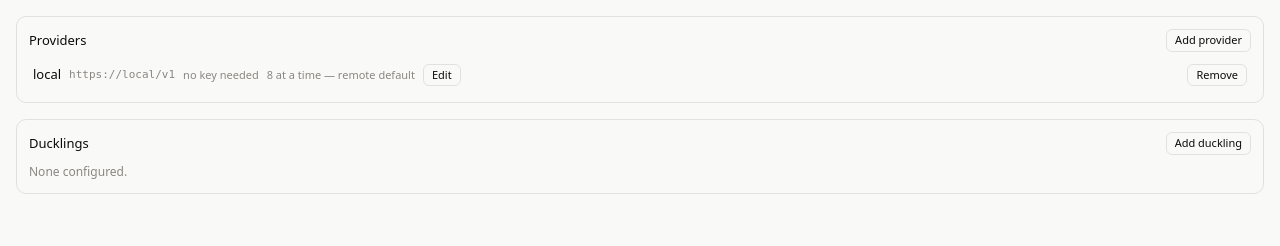
Ducklings › shows the engine's refusal rather than failing silently
Click the button with test id "provider-remove-local".
click(1217, 75)  # box [1187, 64, 1247, 86]
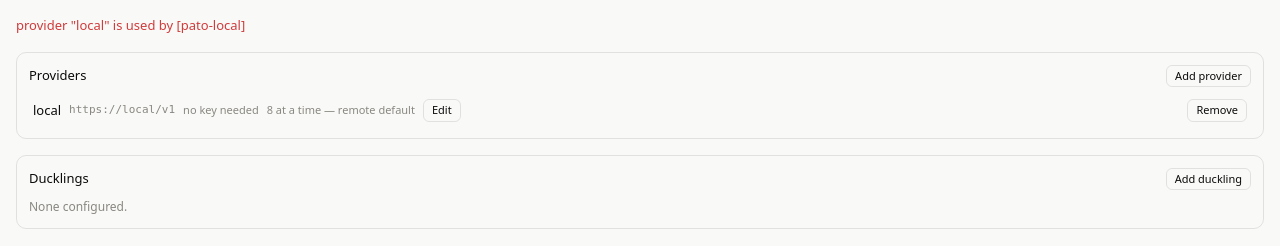
Check: the text with test id "fleet-error" shows "is used by", box [16, 16, 245, 34]
